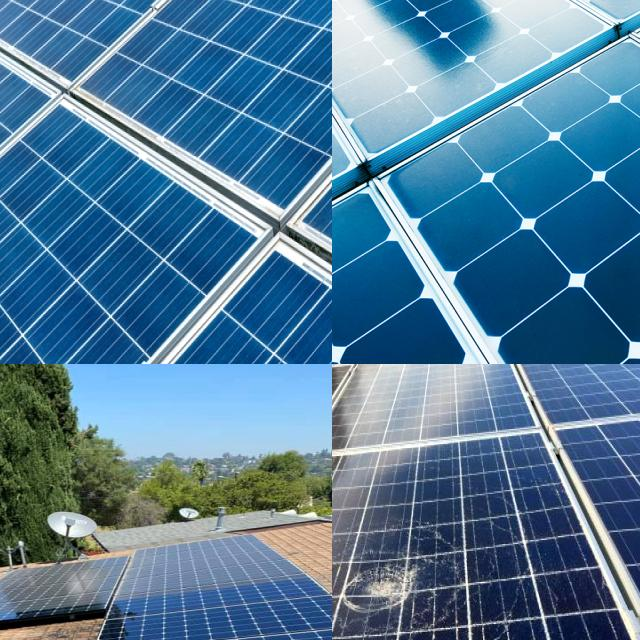crack: (0, 0, 332, 364), (346, 0, 640, 364), (332, 0, 640, 163), (411, 0, 640, 121), (332, 0, 555, 76), (72, 586, 332, 640), (332, 0, 440, 81), (53, 613, 332, 640)
hotspot: (338, 541, 446, 640)
